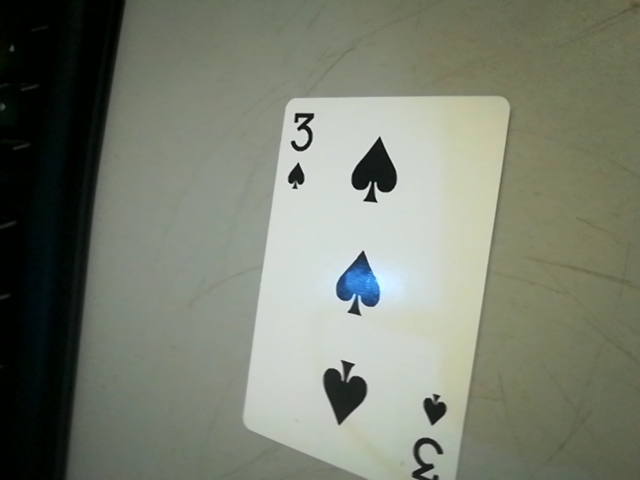ht 3: (405, 389, 458, 480), (272, 102, 323, 195)
